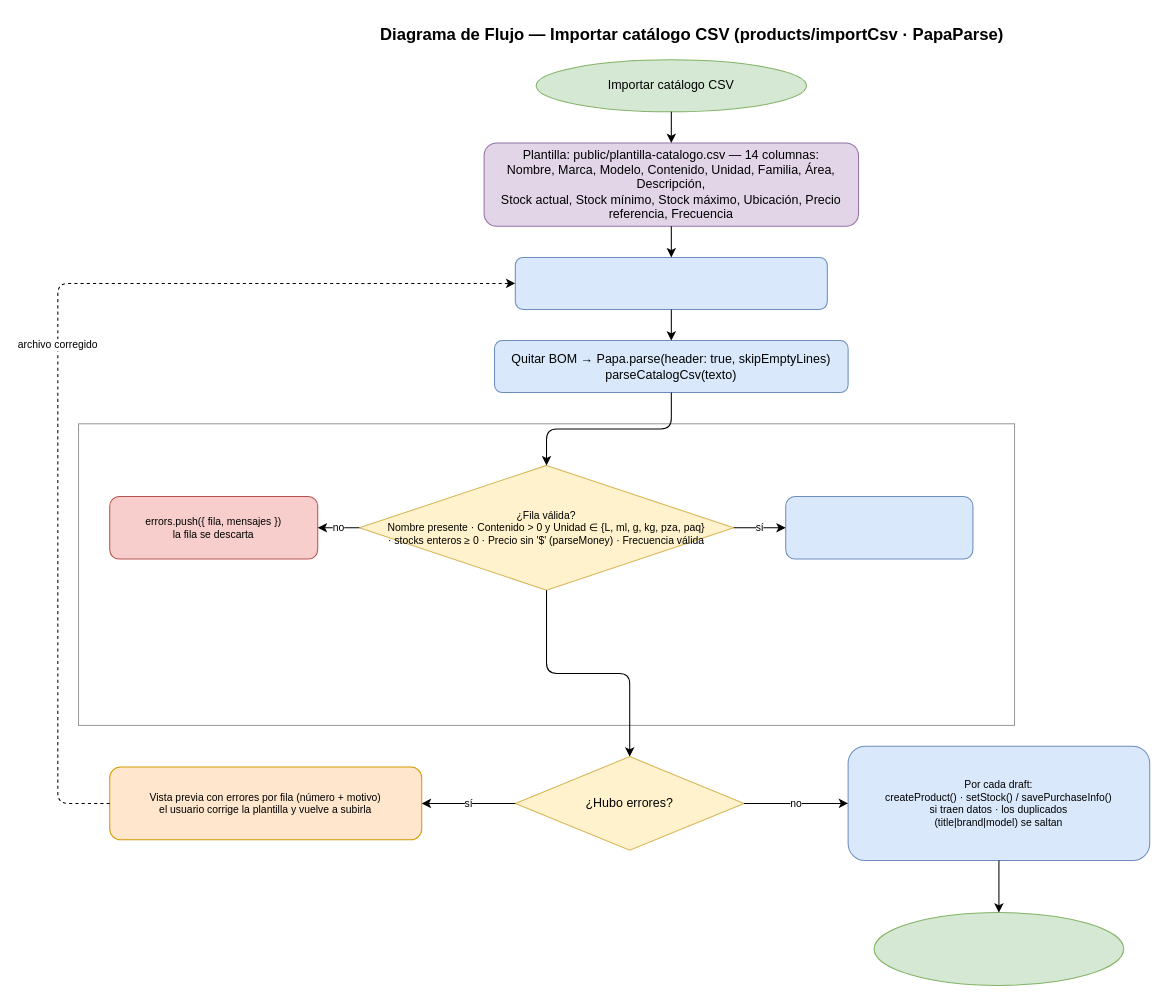
This 1168x1004 diagram has some shape labels left out. Here are the shapes that lost their labels. From the top down, the box of each, then its label:
(514, 256, 827, 309): Usuario llena la plantilla y sube el archivo (ImportCsvModal, desde el Catálogo)
(785, 496, 973, 559): ProductDraft (borrador en memoria)
(77, 423, 1015, 725): loop [por cada fila]
(873, 912, 1124, 985): Resumen: importados / saltados / errores
